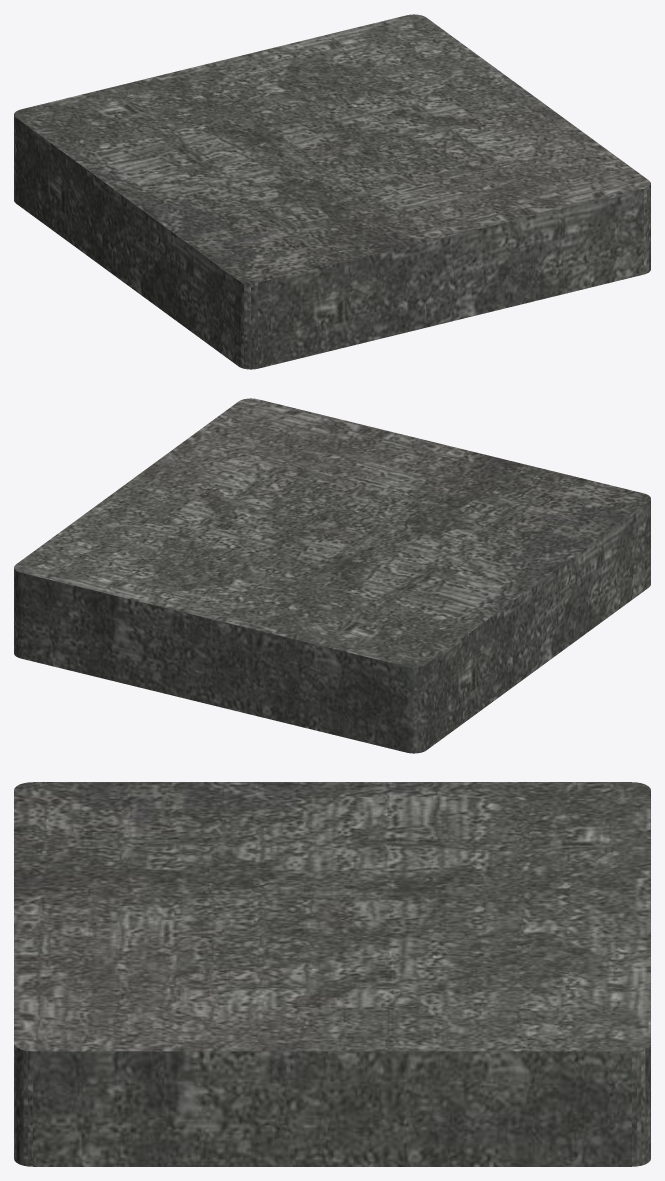
The model's file is square_bronze.fbx.
3 views of the same model, one above another, from view 1: azimuth 30°, elevation 25°; view 2: azimuth 150°, elevation 25°; view 3: azimuth 270°, elevation 25° (orthographic). The views are drawn at different scales.
Visible parts, largest first — view 1: Model; view 2: Model; view 3: Model.
Part boxes in pixels (x1,y1,x2,y2): Model: (14, 14, 650, 369); Model: (14, 398, 650, 753); Model: (14, 782, 650, 1166).
Size of the model in its own units: 5 by 1 by 5.
